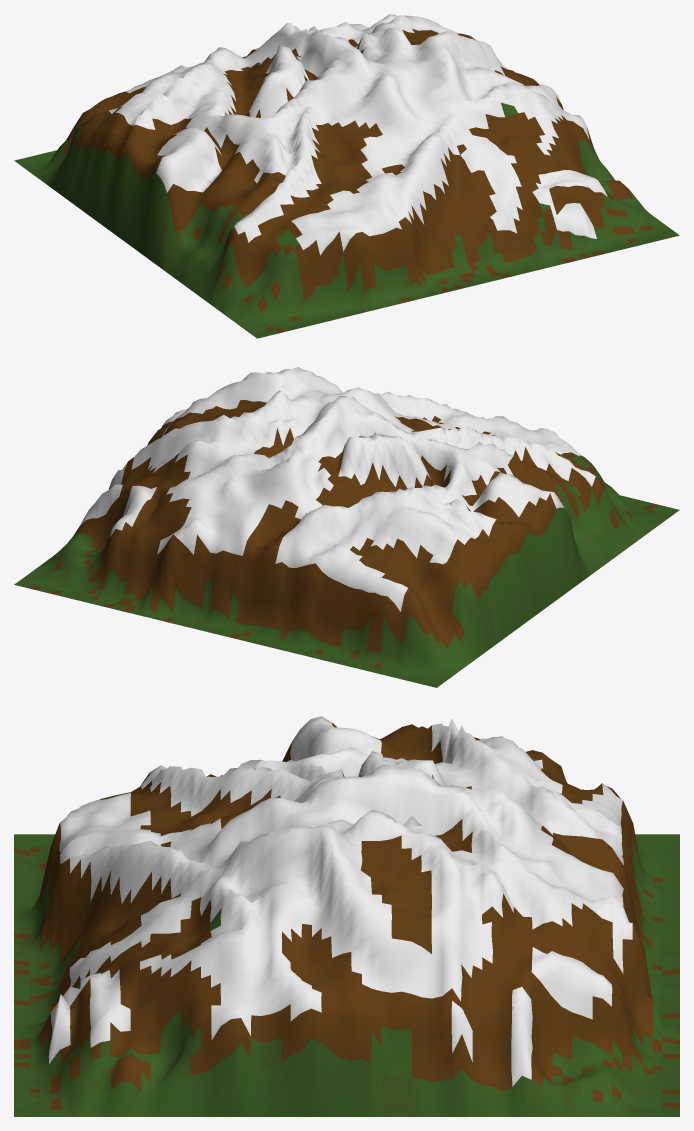
The model's file is S0.mountain.6.glb.
3 renders of one model, top to bottom at view 1: azimuth 30°, elevation 25°; view 2: azimuth 150°, elevation 25°; view 3: azimuth 270°, elevation 25°, orthographic. The views are drawn at different scales.
Visible parts, largest first — view 1: Landscape; view 2: Landscape; view 3: Landscape.
Boxes of the visible parts, left/top/right/bottom form: Landscape: left=14, top=14, right=679, bottom=338; Landscape: left=14, top=367, right=679, bottom=687; Landscape: left=14, top=716, right=679, bottom=1116.
Size of the model in its own units: 303 by 106 by 302.
